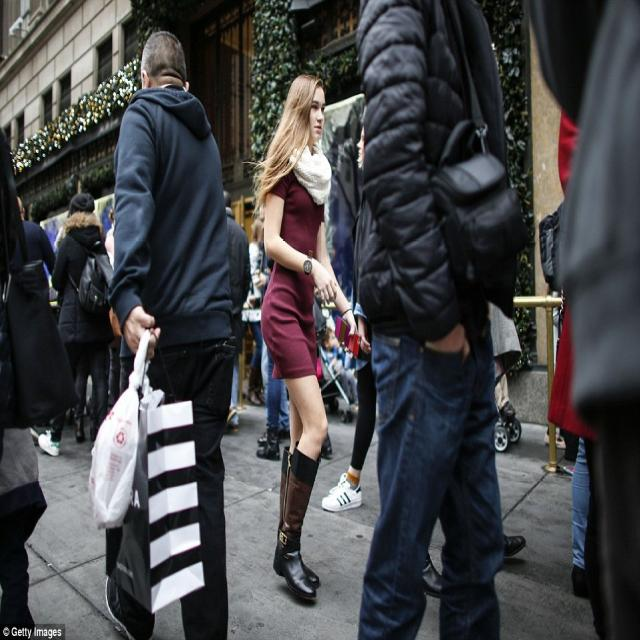body: (351, 0, 525, 640), (97, 26, 236, 638), (241, 61, 362, 608), (550, 102, 610, 604), (546, 102, 606, 603), (0, 125, 52, 640), (319, 114, 380, 516), (36, 186, 114, 462), (253, 202, 332, 460), (534, 192, 582, 479), (242, 208, 298, 446), (413, 507, 534, 598), (324, 99, 366, 308), (481, 277, 528, 460), (222, 188, 252, 436), (104, 200, 130, 440), (10, 194, 59, 282), (318, 324, 360, 413), (71, 376, 99, 446)
